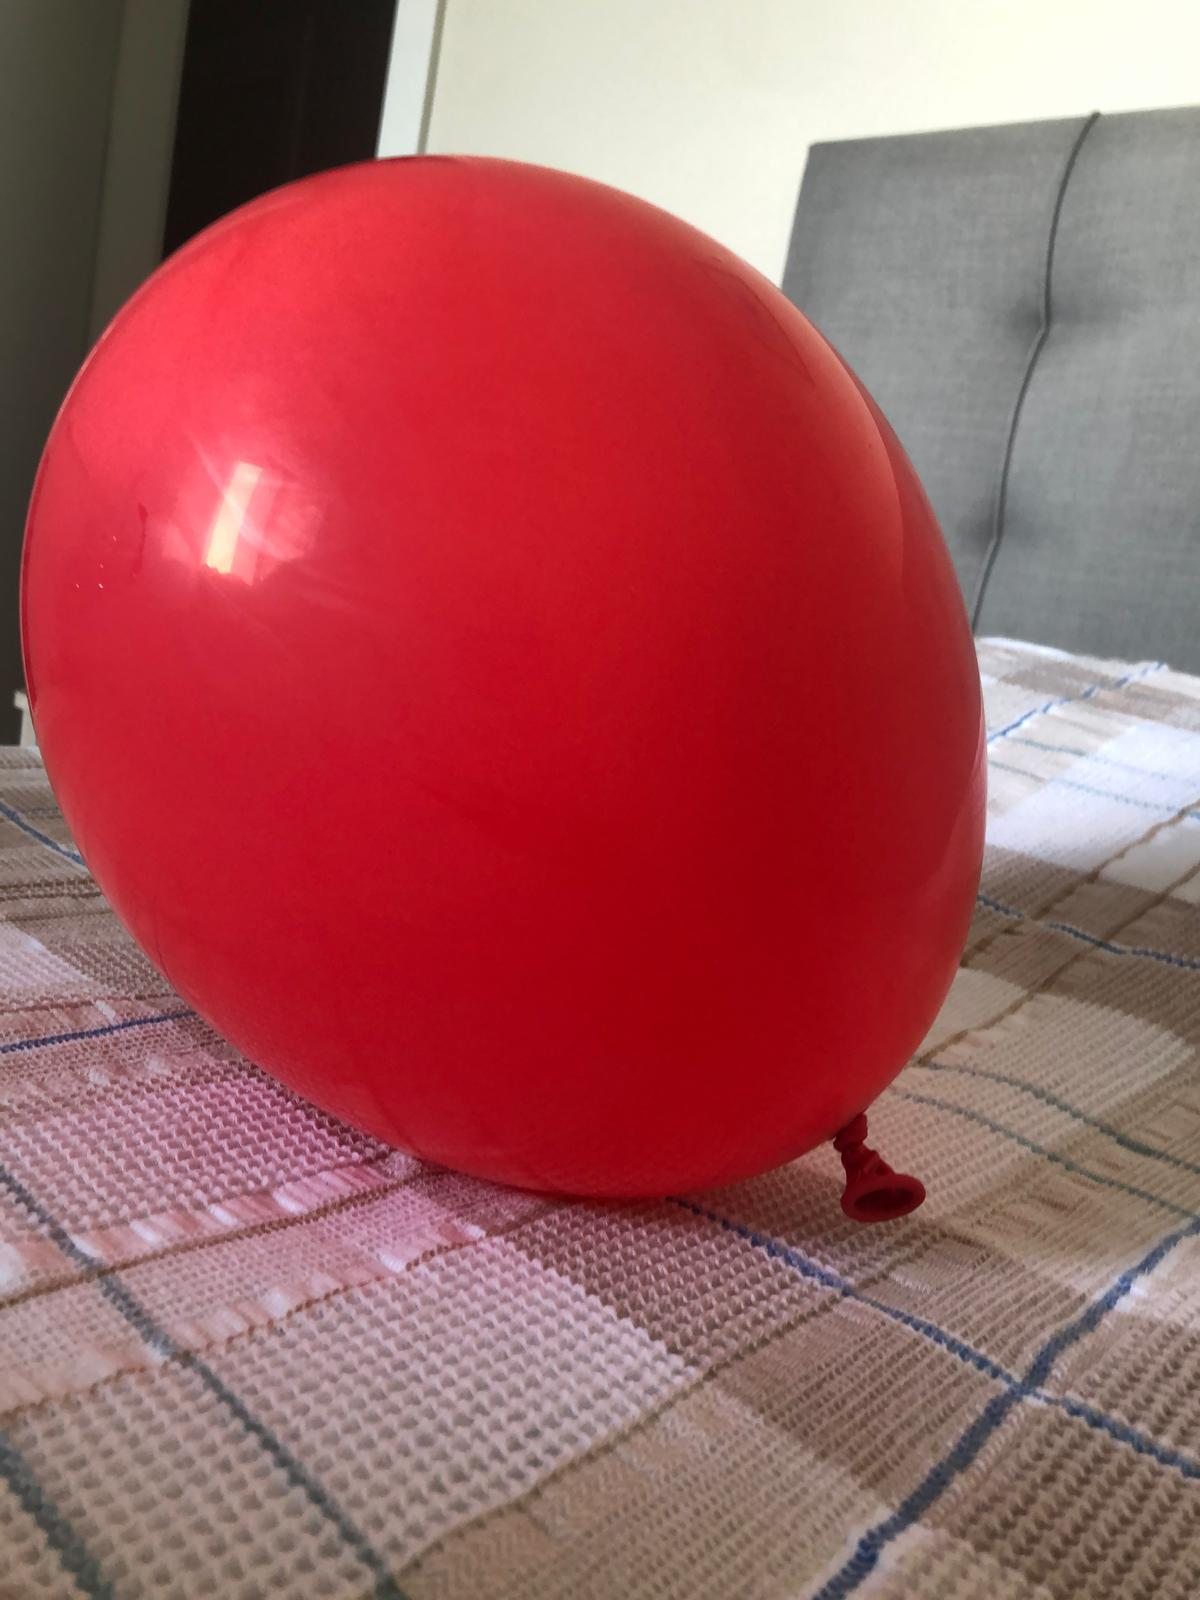red: (18, 144, 979, 1218)
